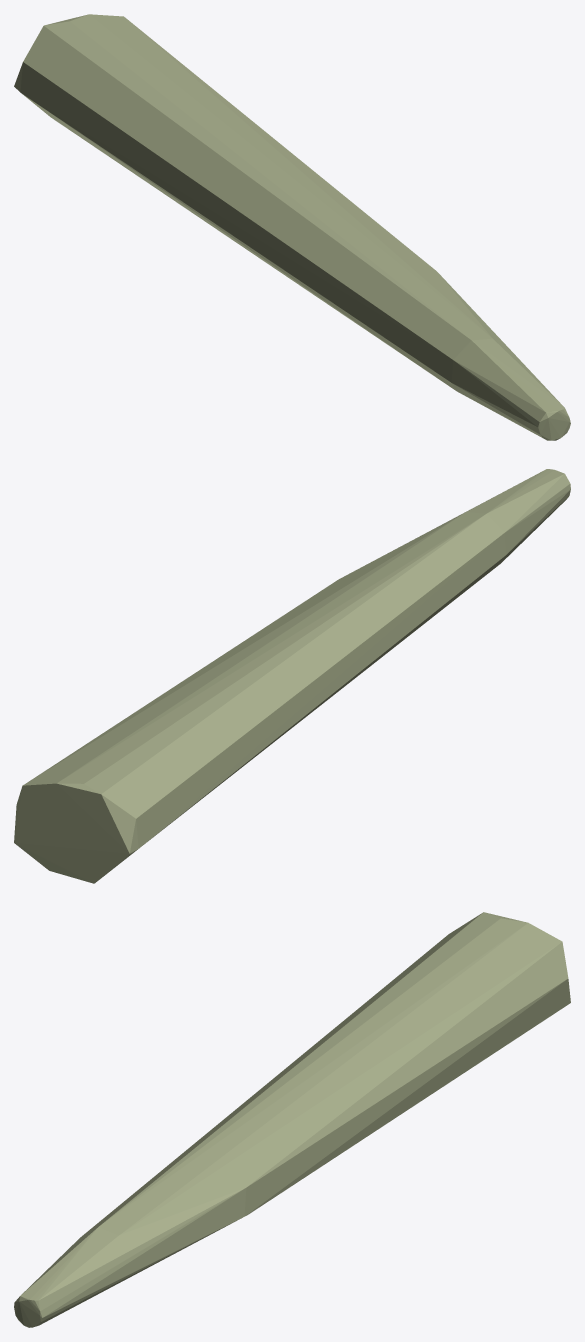
File: device_insulin_lancing_c01.glb
3 views of the same model, one above another, from view 1: azimuth 30°, elevation 25°; view 2: azimuth 150°, elevation 25°; view 3: azimuth 330°, elevation 25° (orthographic). The views are drawn at different scales.
Visible parts, largest first — view 1: geometry_0; view 2: geometry_0; view 3: geometry_0.
Boxes of the visible parts, x1=… form: geometry_0: x1=14, y1=14, x2=570, y2=440; geometry_0: x1=14, y1=469, x2=570, y2=883; geometry_0: x1=14, y1=912, x2=570, y2=1327.
Size of the model in its own units: 0.0707 by 0.0521 by 0.4799.
